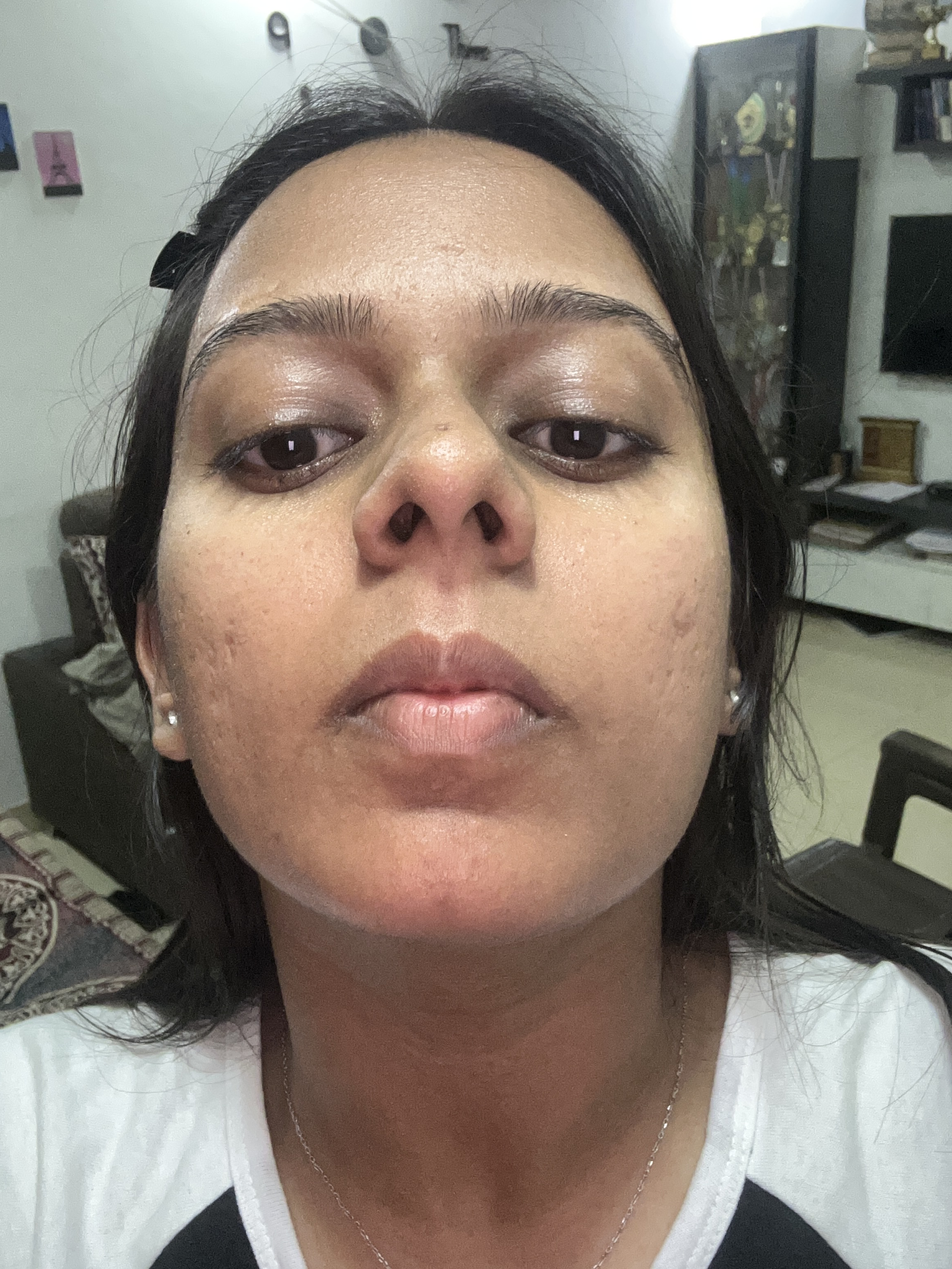closed_comedone: (399, 463, 436, 498), (466, 470, 498, 493), (427, 327, 443, 347)
